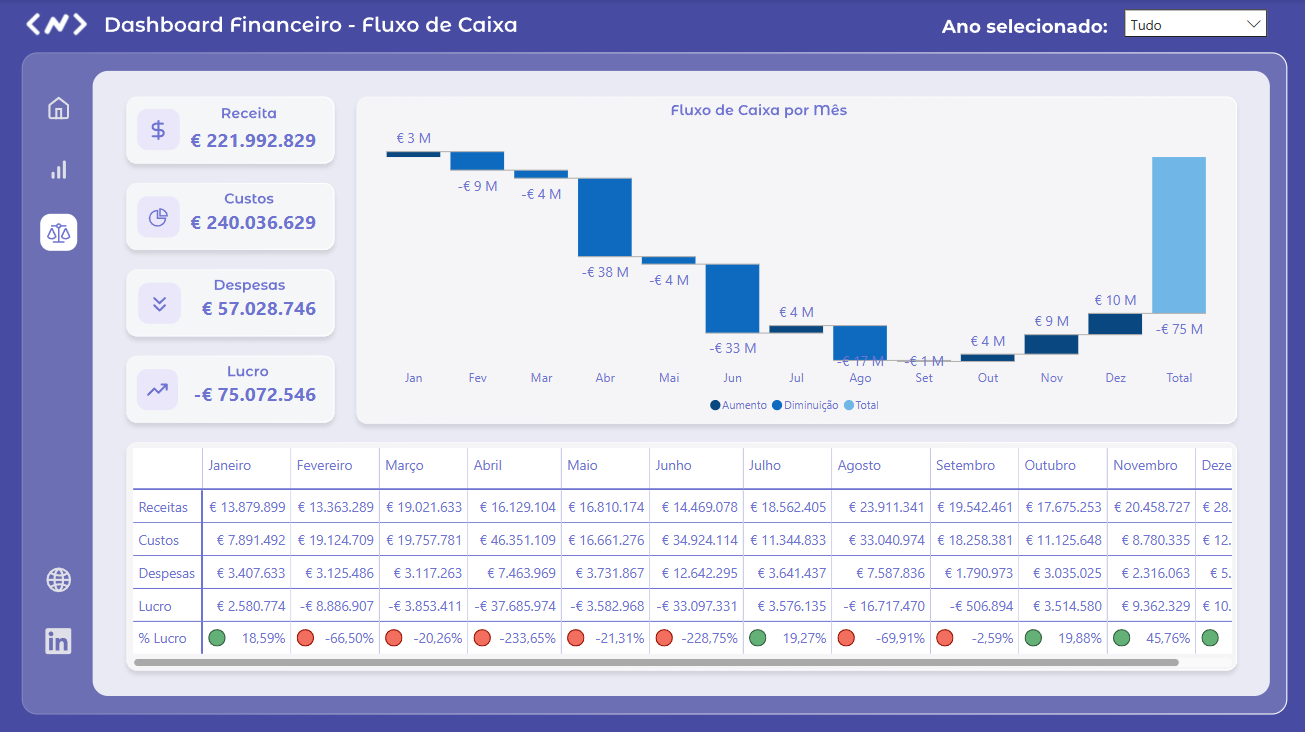

What the dashboard file says about the page in this screenshot:
{"tool":"powerbi","page":{"name":"Detalhamento","canvas":[1280,720],"ordinal":2},"visuals":[{"type":"cardVisual","fields":{"Data":["_Medidas.Receitas"]},"box":[128.4,99.2,200.4,60.3],"z":0},{"type":"cardVisual","fields":{"Data":["_Medidas.Custos"]},"box":[128.4,173.1,200.4,73.9],"z":1000},{"type":"cardVisual","fields":{"Data":["_Medidas.Despesas"]},"box":[128.4,262.6,200.4,66.1],"z":2000},{"type":"cardVisual","fields":{"Data":["_Medidas.Lucro"]},"box":[128.4,345.3,200.4,68.1],"z":3000},{"type":"waterfallChart","fields":{"Category":["dCalendario.NomeMesAbreviado"],"Y":["_Medidas.Lucro"]},"box":[350.2,99.2,856.9,314.2],"z":4000},{"type":"slicer","fields":{"Values":["dCalendario.data.Variação.Hierarquia de Datas.Ano"]},"box":[1087.4,0,158.5,44.7],"z":5000},{"type":"pivotTable","fields":{"Values":["_Medidas.Receitas","_Medidas.Custos","_Medidas.Despesas","_Medidas.Lucro","_Medidas.% Lucro"],"Columns":["dCalendario.NomeMês"]},"box":[128.4,431.9,1078.7,222.7],"z":6000},{"type":"actionButton","box":[24.3,145.9,71,39.9],"z":7000},{"type":"actionButton","box":[25.3,87.5,68.1,39.9],"z":8000},{"type":"actionButton","box":[25.3,596.2,68.1,58.4],"z":9000},{"type":"actionButton","box":[25.3,542.7,68.1,45.7],"z":10000}]}

Visuals, with their boxes on the page's 1280x720 design canvas (x1, y1, x2, y2). These are canvas units, not pixel positions in the 1305x732 screenshot, which may show the page scaled, cropped or inside an application window:
cardVisual - _Medidas.Receitas: <box>128,99,329,160</box>
cardVisual - _Medidas.Custos: <box>128,173,329,247</box>
cardVisual - _Medidas.Despesas: <box>128,263,329,329</box>
cardVisual - _Medidas.Lucro: <box>128,345,329,413</box>
waterfallChart - dCalendario.NomeMesAbreviado x _Medidas.Lucro: <box>350,99,1207,413</box>
slicer - dCalendario.data.Variação.Hierarquia de Datas.Ano: <box>1087,0,1246,45</box>
pivotTable - _Medidas.Receitas x _Medidas.Custos: <box>128,432,1207,655</box>
actionButton: <box>24,146,95,186</box>
actionButton: <box>25,88,93,127</box>
actionButton: <box>25,596,93,655</box>
actionButton: <box>25,543,93,588</box>
